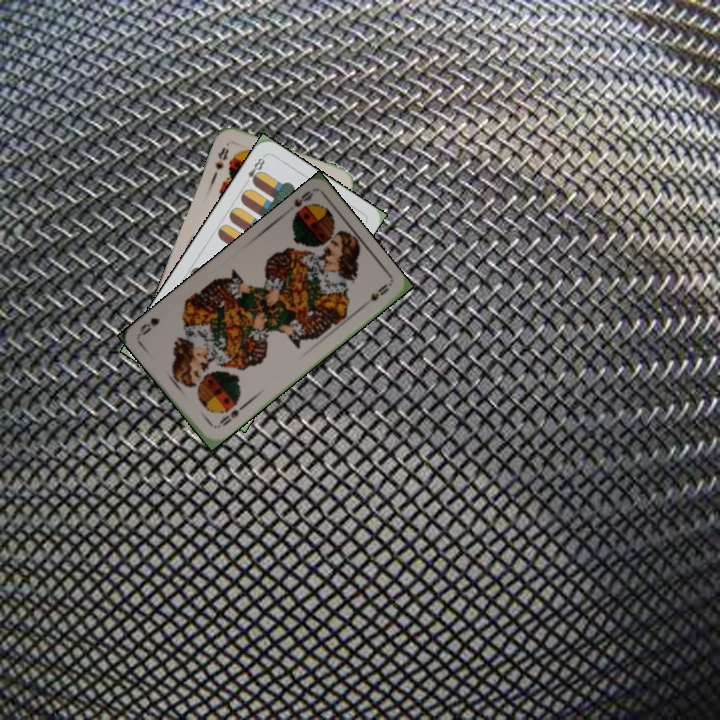E8: (240, 152, 268, 187)
S8: (211, 143, 231, 173)
SO: (211, 401, 247, 431), (287, 187, 316, 223)
